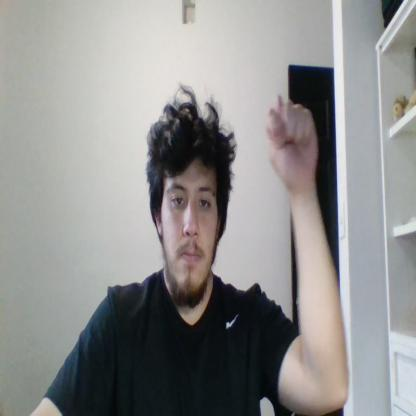T: (266, 93, 317, 189)
